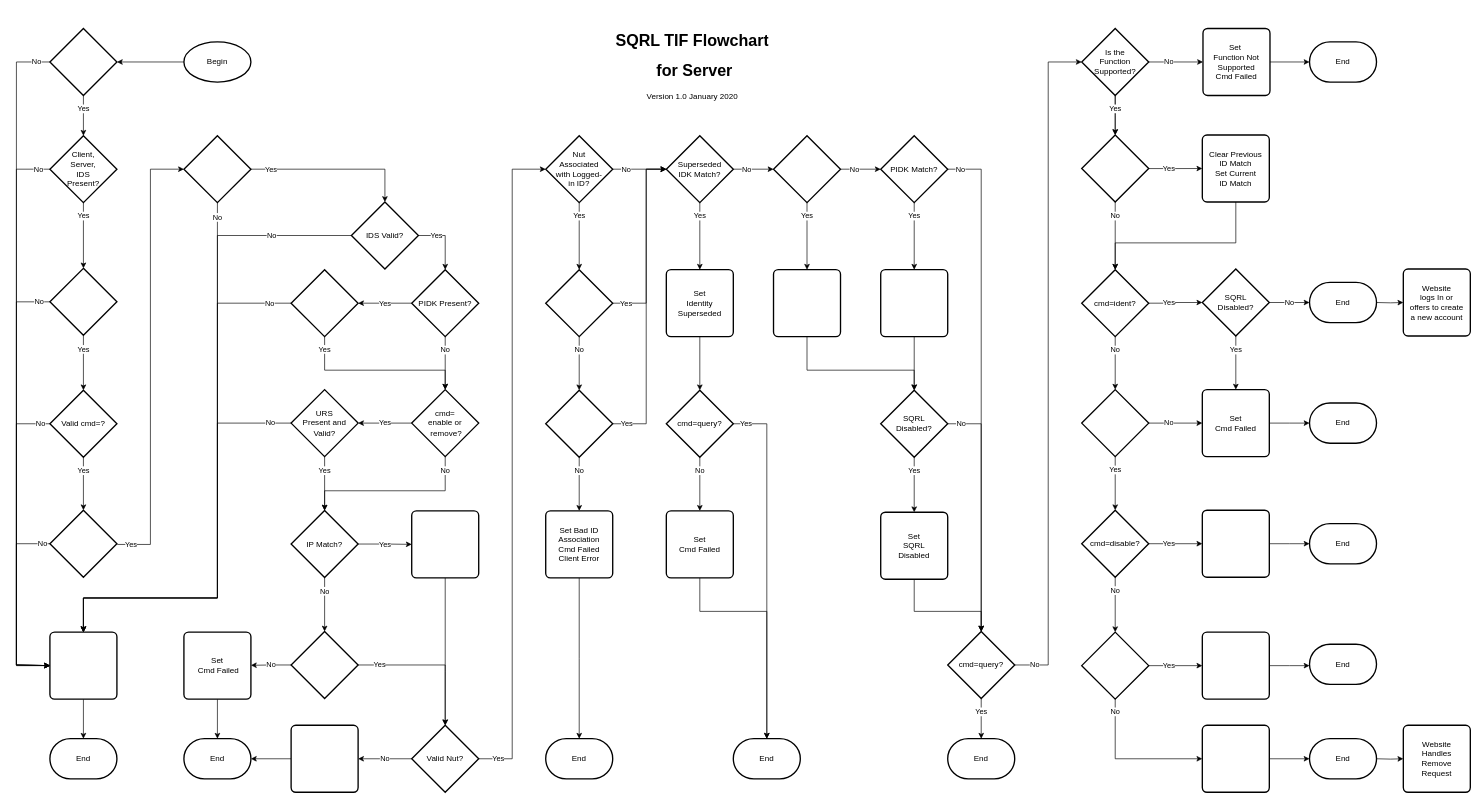
Some shapes in this 1483 by 804 pixel diagram are drawn without their labels. Here are the shapes that lost their labels. From the top down, the centre of each, then its label:
(83,61): Nut Present?
(217,169): IDK Present?
(807,169): IDK Match?
(1115,168): Account Rekeyed?
(83,301): Valid ver=?
(324,303): PIDS Present and Valid?
(579,303): Does IDK match Logged-in ID?
(807,303): Set Current ID Match
(914,303): Set Previous ID Match
(579,423): Does PIDK Match Logged-in ID?
(1115,423): Do we have an ID Match?
(83,543): Valid Query HMAC?
(445,544): Set IP Match
(1235,543): Set Disabled
(83,665): Set Client Error Cmd Failed
(324,664): opt= noiptest?
(1115,665): cmd=enable?
(1235,665): Clear Disabled
(324,758): Set Transient Error Cmd Failed
(1235,758): (cmd=remove)
